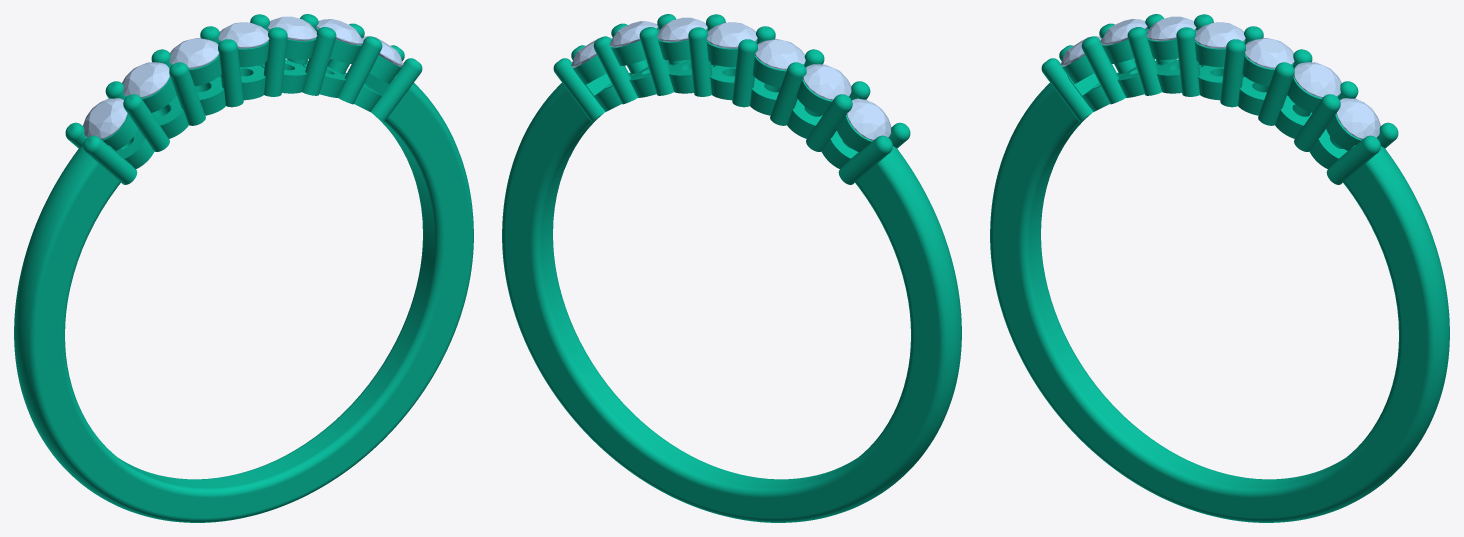
The picture shows the model from 3 angles, left to right: view 1: azimuth 30°, elevation 25°; view 2: azimuth 150°, elevation 25°; view 3: azimuth 330°, elevation 25°; orthographic projection.
Parts seen in each view (by area): view 1: VR443(front).3dm, Diamond_Round (×6); view 2: VR443(front).3dm, Diamond_Round (×6); view 3: VR443(front).3dm, Diamond_Round (×6).
Part boxes in pixels (x1=…): VR443(front).3dm: x1=14, y1=14, x2=473, y2=522; Diamond_Round (×6): x1=83, y1=16, x2=363, y2=139; VR443(front).3dm: x1=502, y1=14, x2=961, y2=522; Diamond_Round (×6): x1=609, y1=17, x2=891, y2=140; VR443(front).3dm: x1=990, y1=14, x2=1449, y2=522; Diamond_Round (×6): x1=1100, y1=16, x2=1380, y2=139.
Size of the model in its own units: 2.78 by 2.86 by 0.3022.
